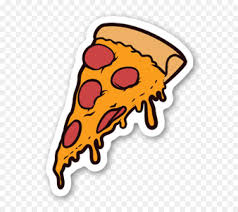pizza: (49, 14, 200, 189)
